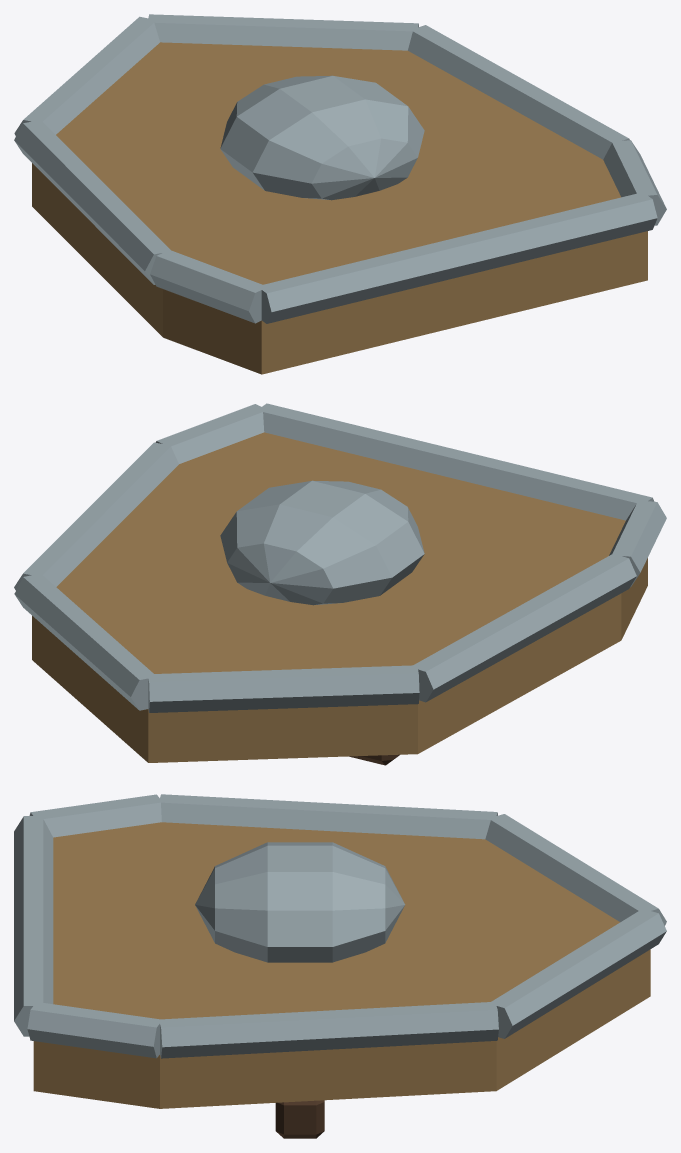
The model's file is shield.glb.
3 views of the same model, one above another, from view 1: azimuth 30°, elevation 25°; view 2: azimuth 150°, elevation 25°; view 3: azimuth 270°, elevation 25° (orthographic).
Visible parts, largest first — view 1: shield.001; view 2: shield.001; view 3: shield.001.
Boxes of the visible parts, x1,y1,x2,y2 form: shield.001: (14, 14, 666, 374); shield.001: (14, 403, 666, 765); shield.001: (14, 794, 666, 1138).
Size of the model in its own units: 0.4078 by 0.1927 by 0.4655.
